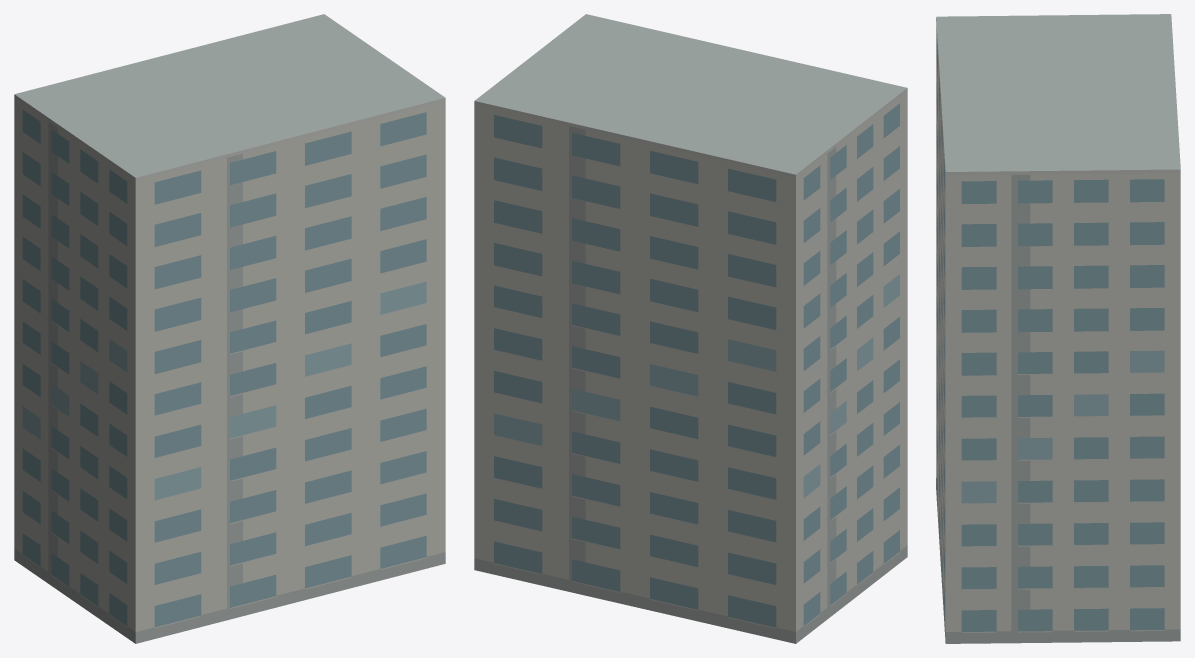
The model's file is residential-5a326e64-877f-45fe-a1d7-4acdadfc5f0a.glb.
The picture shows the model from 3 angles, left to right: view 1: azimuth 30°, elevation 25°; view 2: azimuth 150°, elevation 25°; view 3: azimuth 270°, elevation 25°; orthographic projection.
Parts seen in each view (by area): view 1: residential-5a326e64-877f-45fe-a1d7-4acdadfc5f0a.tmp; view 2: residential-5a326e64-877f-45fe-a1d7-4acdadfc5f0a.tmp; view 3: residential-5a326e64-877f-45fe-a1d7-4acdadfc5f0a.tmp.
Boxes of the visible parts, <box> form: residential-5a326e64-877f-45fe-a1d7-4acdadfc5f0a.tmp: <box>14,14,445,643</box>; residential-5a326e64-877f-45fe-a1d7-4acdadfc5f0a.tmp: <box>474,14,907,643</box>; residential-5a326e64-877f-45fe-a1d7-4acdadfc5f0a.tmp: <box>936,14,1180,643</box>.
Size of the model in its own units: 23.72 by 33 by 15.52.
